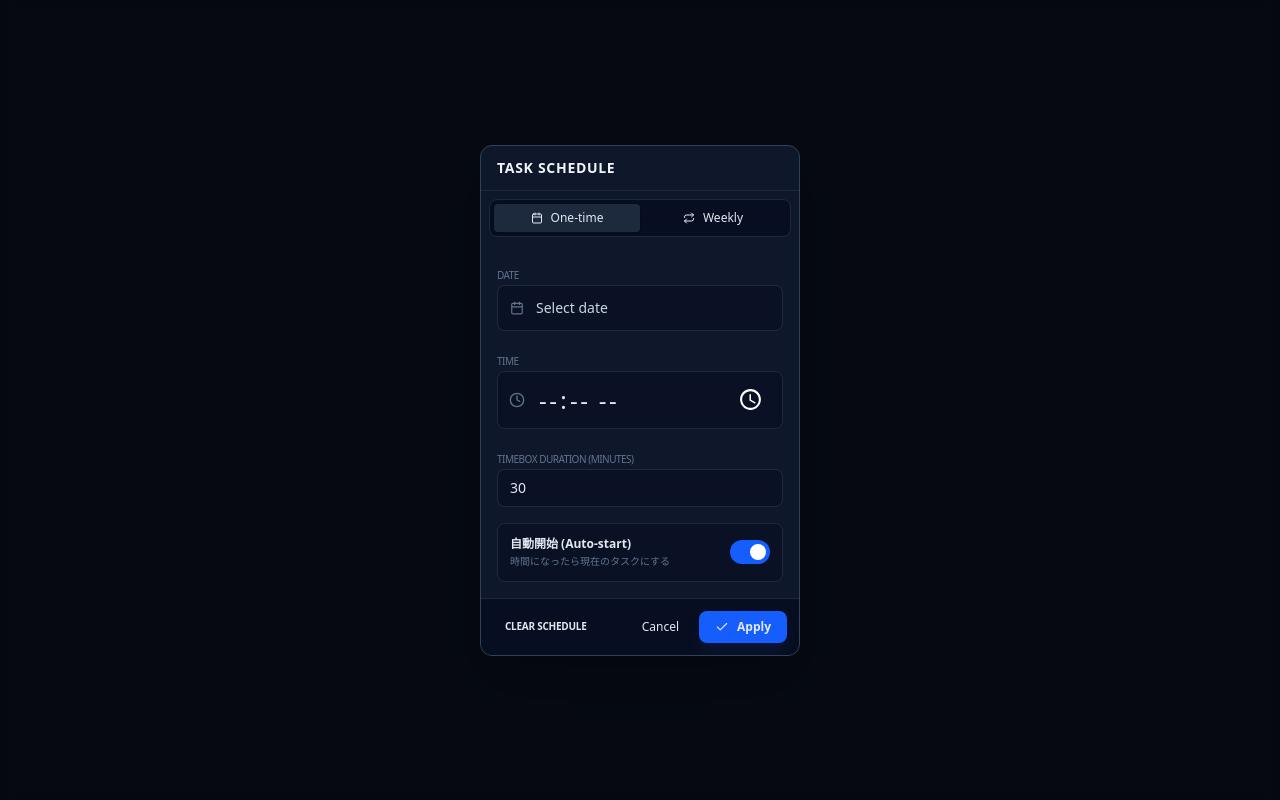
AdvancedScheduleDialog › Weekly タブに切り替えると曜日ボタンが表示される
Click the button "Weekly": click(713, 218) [640,204,786,232]
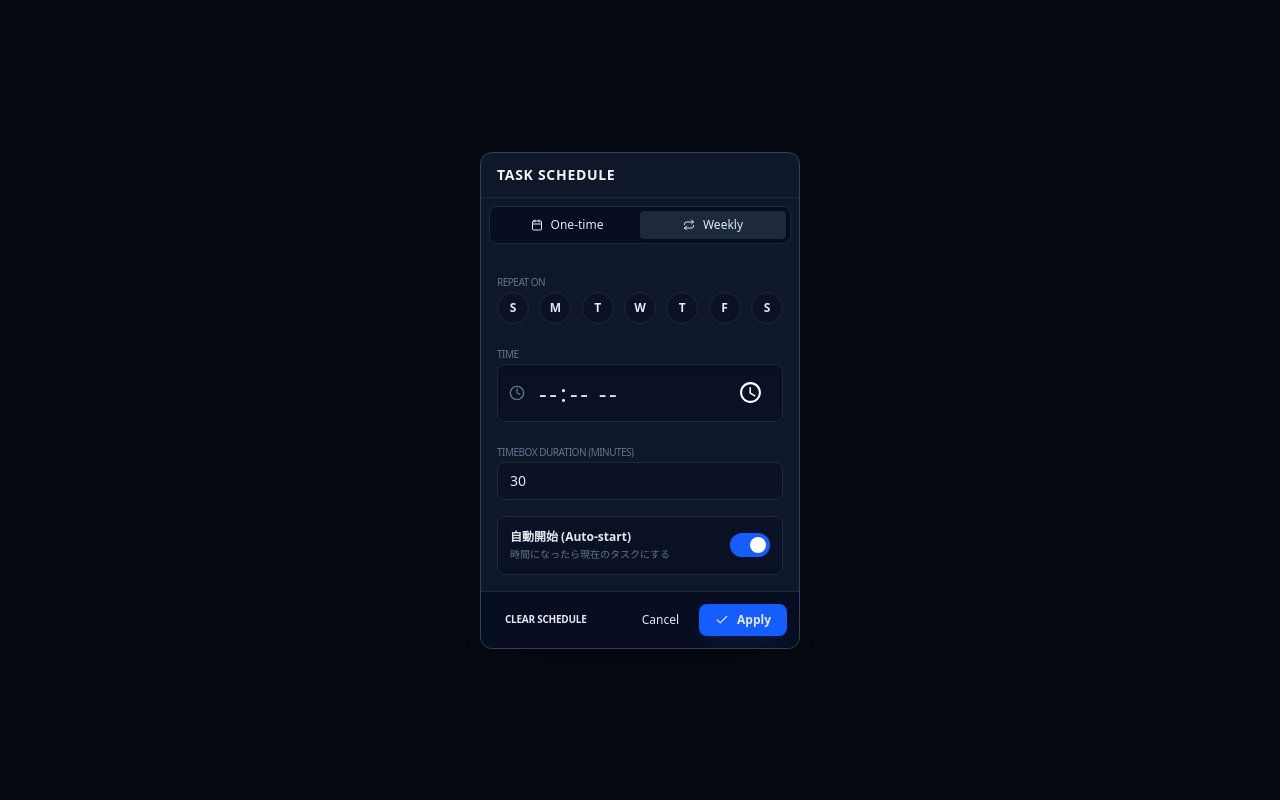
Expected: the button "M" is shown, [539,292,571,324]
